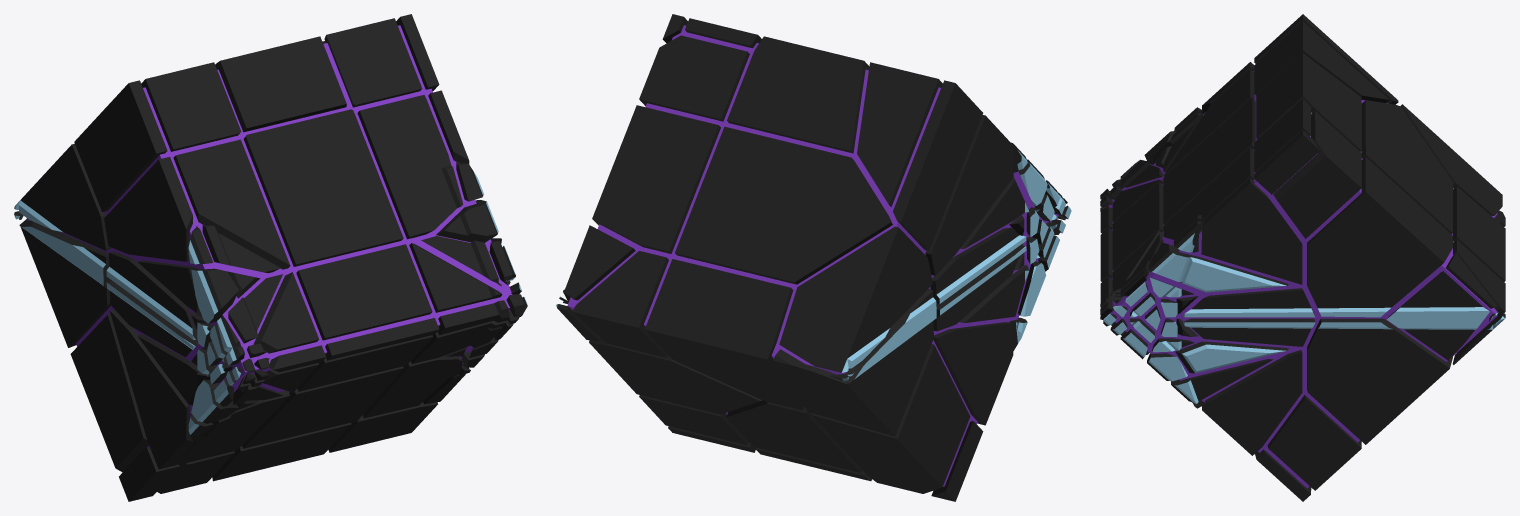
File: Grapple Cube.glb
3 renders of one model, left to right at view 1: azimuth 30°, elevation 25°; view 2: azimuth 150°, elevation 25°; view 3: azimuth 270°, elevation 25°, orthographic. The views are drawn at different scales.
Parts seen in each view (by area): view 1: Cube.001_cell, Cube; view 2: Cube.001_cell, Cube; view 3: Cube.001_cell, Cube.
Boxes of the visible parts, x1,y1,x2,y2 form: Cube.001_cell: [14, 14, 527, 501]; Cube: [26, 25, 512, 459]; Cube.001_cell: [556, 14, 1071, 501]; Cube: [567, 25, 1058, 486]; Cube.001_cell: [1100, 14, 1505, 501]; Cube: [1108, 70, 1497, 488].
Size of the model in its own units: 2.04 by 2.83 by 2.83.
Materials: 1 (1 with a texture image).
